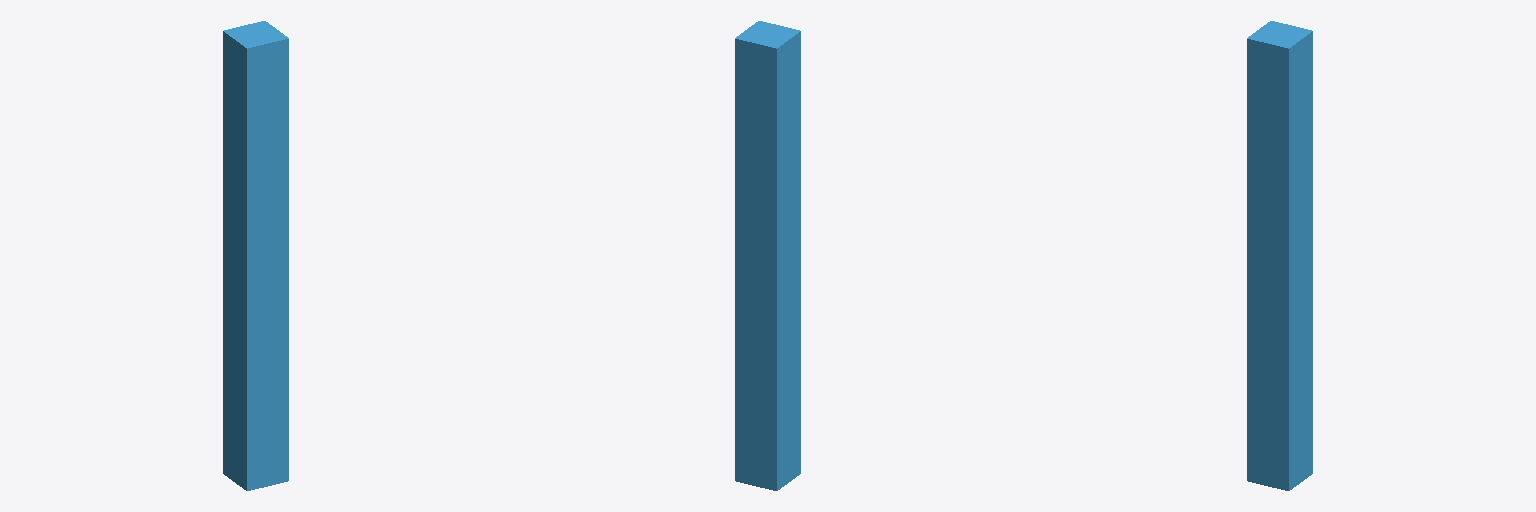
robot.urdf — simple:
<robot name="simple">

    <link name="world"/>
    <link name="tool">
        <visual>
            <origin xyz="0 0 0.5" rpy="0 0 0"/>
            <geometry>
                <box size="0.1 0.1 1"/>
            </geometry>
        </visual>
    </link>

    <joint name="q1" type="revolute">
        <origin xyz="0 0 1" rpy=" 0 0 0"/>
        <parent link="world"/>
        <child link="tool"/>

        <axis xyz="0 0 1"/>
        <limit lower="-1" upper="1" effort="1" velocity="1"/>
    </joint>

    
</robot>

--- Facts derived from the render (not from the file) ---
The picture shows the robot from 3 angles, left to right: view 1: azimuth 30°, elevation 25°; view 2: azimuth 150°, elevation 25°; view 3: azimuth 330°, elevation 25°; orthographic projection.
Model simple with 2 links and 1 joints (1 revolute), rooted at world, posed all joints at 0.
Links seen in each view (by area): view 1: tool; view 2: tool; view 3: tool.
Link boxes in pixels (x1,y1,x2,y2): tool: (223, 21, 288, 490); tool: (735, 21, 800, 490); tool: (1247, 21, 1312, 490).
Bounding box of the posed robot: 0.1 × 0.1 × 1 m (x, y, z).
Geometry: primitives only (box / cylinder / sphere), no mesh files.